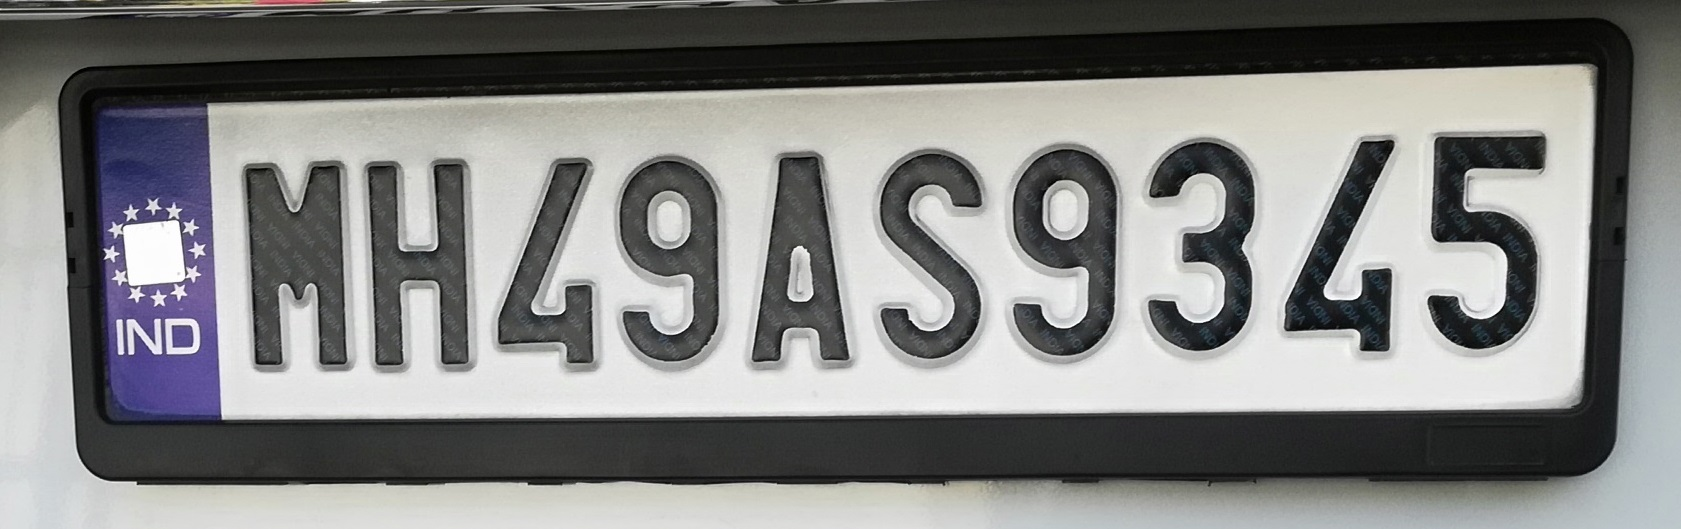numberplate: (62, 69, 1614, 445)
